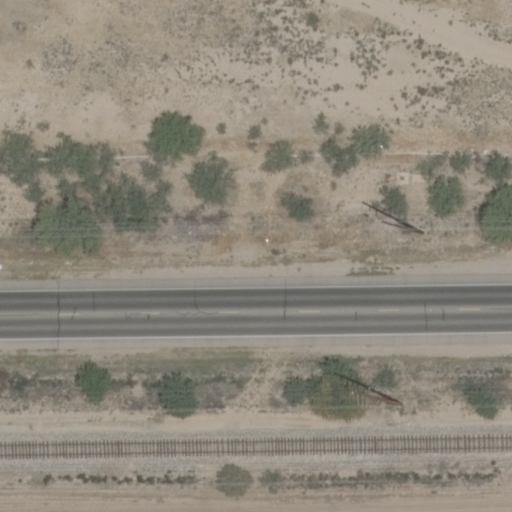DT: (331, 371, 404, 407), (369, 200, 425, 236)
